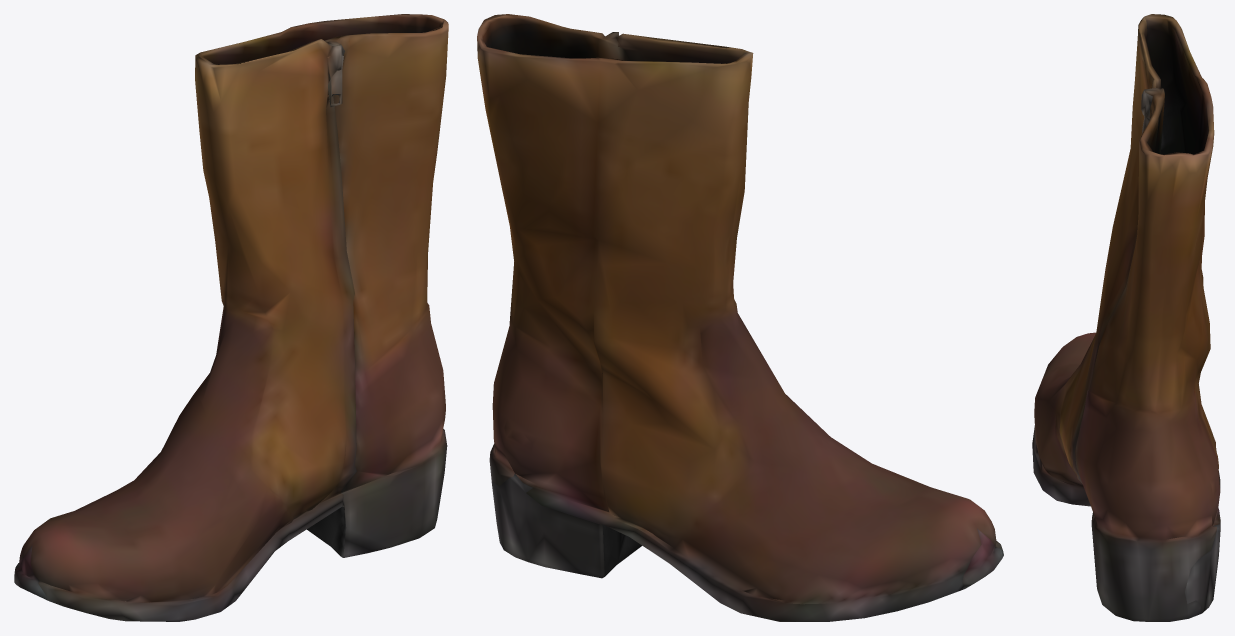
Rendered from W_Lou_z0dkC78niiZ-medium.glb.
The picture shows the model from 3 angles, left to right: view 1: azimuth 30°, elevation 25°; view 2: azimuth 150°, elevation 25°; view 3: azimuth 270°, elevation 25°; orthographic projection. The views are drawn at different scales.
Parts seen in each view (by area): view 1: W_Lou_z0dkC78niiZ; view 2: W_Lou_z0dkC78niiZ; view 3: W_Lou_z0dkC78niiZ.
Boxes of the visible parts, x1,y1,x2,y2 form: W_Lou_z0dkC78niiZ: (14, 14, 448, 621); W_Lou_z0dkC78niiZ: (477, 14, 1003, 621); W_Lou_z0dkC78niiZ: (1032, 14, 1220, 621).
Size of the model in its own units: 0.2528 by 0.268 by 0.0917.
Materials: 1 (1 with a texture image).
